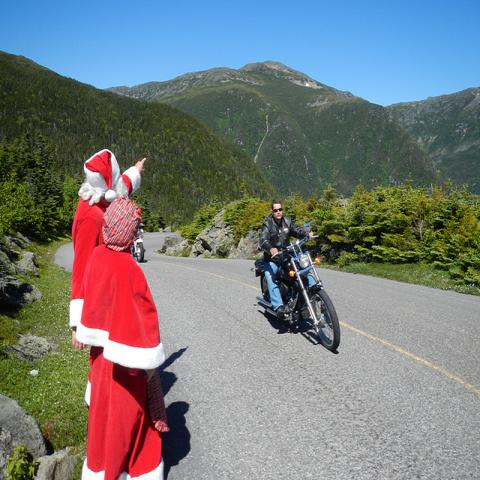motorcycle: (249, 225, 343, 352), (131, 226, 143, 264)
